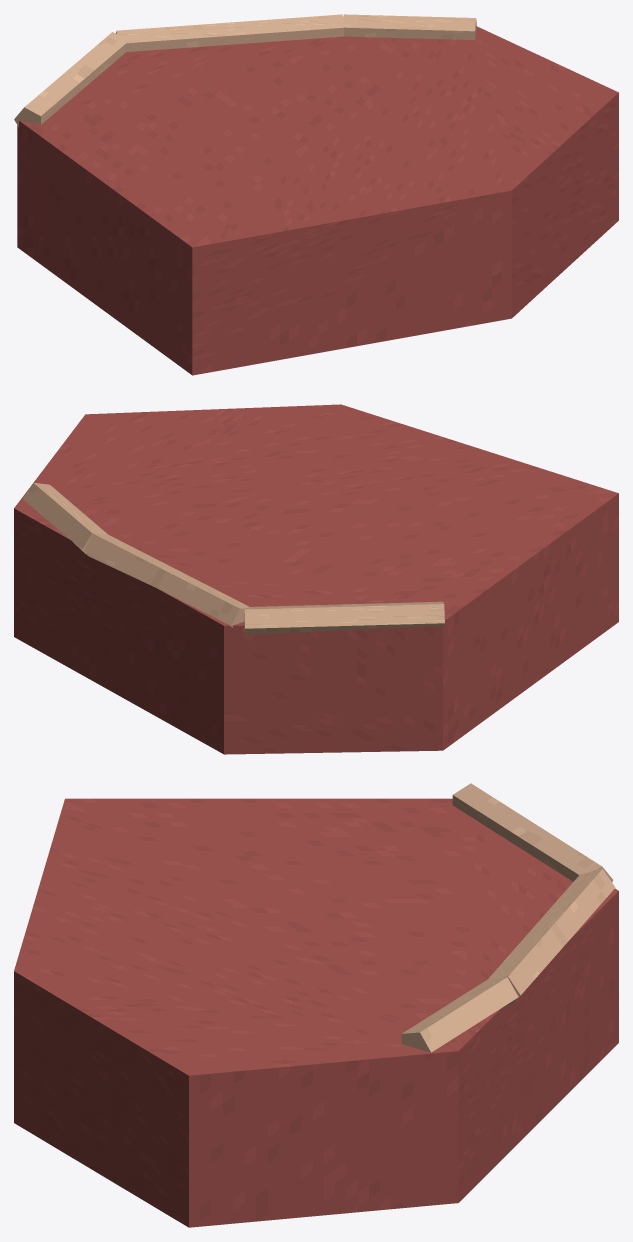
Rendered from mutant_meat.glb.
3 renders of one model, top to bottom at view 1: azimuth 30°, elevation 25°; view 2: azimuth 150°, elevation 25°; view 3: azimuth 270°, elevation 25°, orthographic. The views are drawn at different scales.
Parts seen in each view (by area): view 1: block_cut of meat, block_pale outer edge 1, block_pale outer edge 0, block_pale outer edge 2; view 2: block_cut of meat, block_pale outer edge 0, block_pale outer edge 1, block_pale outer edge 2; view 3: block_cut of meat, block_pale outer edge 1, block_pale outer edge 0, block_pale outer edge 2.
Boxes of the visible parts, bbox=[...] form: block_cut of meat: bbox=[17, 26, 618, 375]; block_pale outer edge 1: bbox=[116, 14, 343, 51]; block_pale outer edge 0: bbox=[14, 32, 126, 126]; block_pale outer edge 2: bbox=[343, 14, 476, 39]; block_cut of meat: bbox=[14, 404, 618, 754]; block_pale outer edge 0: bbox=[244, 601, 444, 634]; block_pale outer edge 1: bbox=[84, 533, 249, 627]; block_pale outer edge 2: bbox=[23, 482, 107, 554]; block_cut of meat: bbox=[14, 798, 618, 1227]; block_pale outer edge 1: bbox=[488, 868, 615, 1001]; block_pale outer edge 0: bbox=[452, 783, 613, 882]; block_pale outer edge 2: bbox=[401, 977, 518, 1052].
Bounding box in the file's own units: 0.114 × 0.0322 × 0.1046.
1 material, 1 textured.
